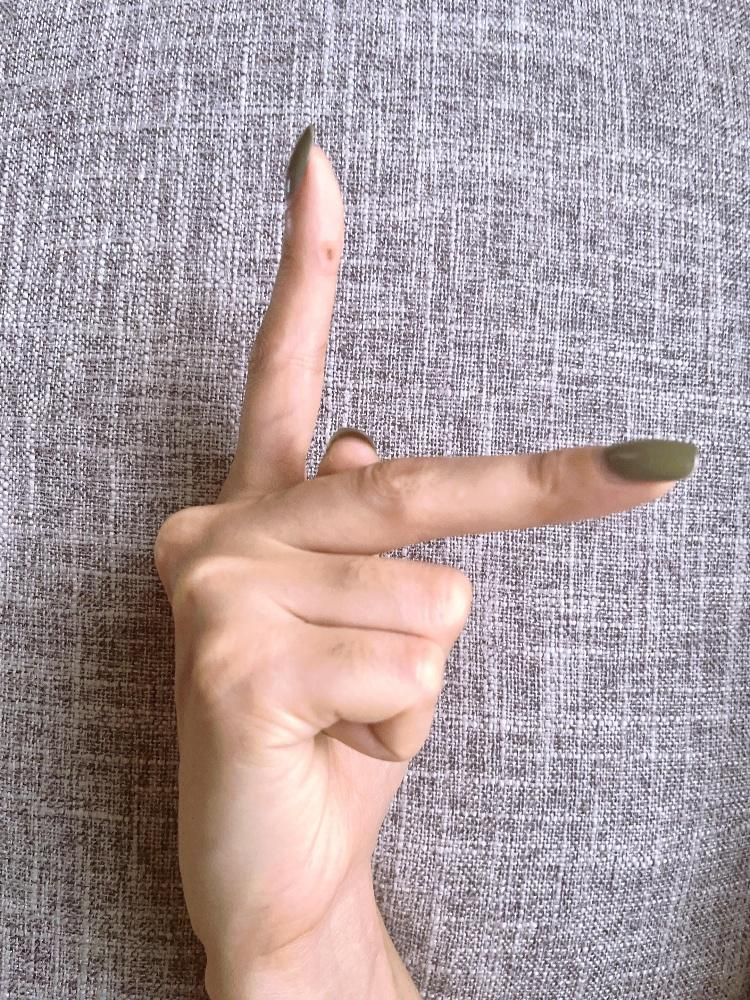k: (149, 128, 701, 944)
